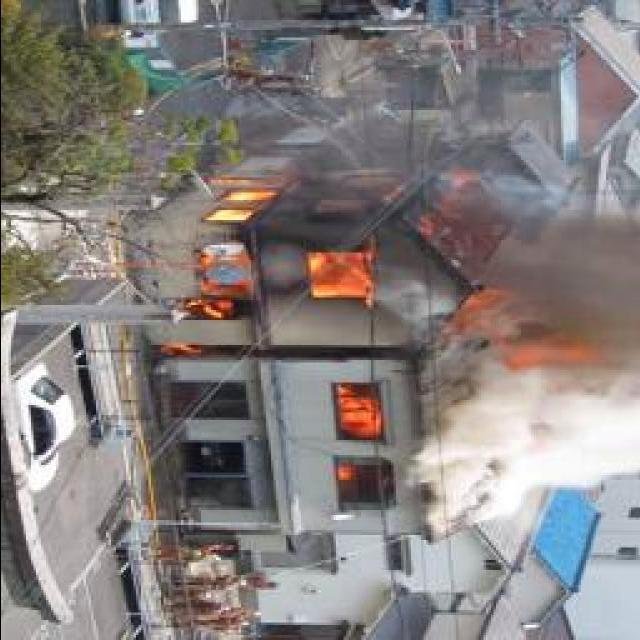Fire: (156, 182, 386, 358), (448, 290, 587, 370), (336, 391, 378, 491)
